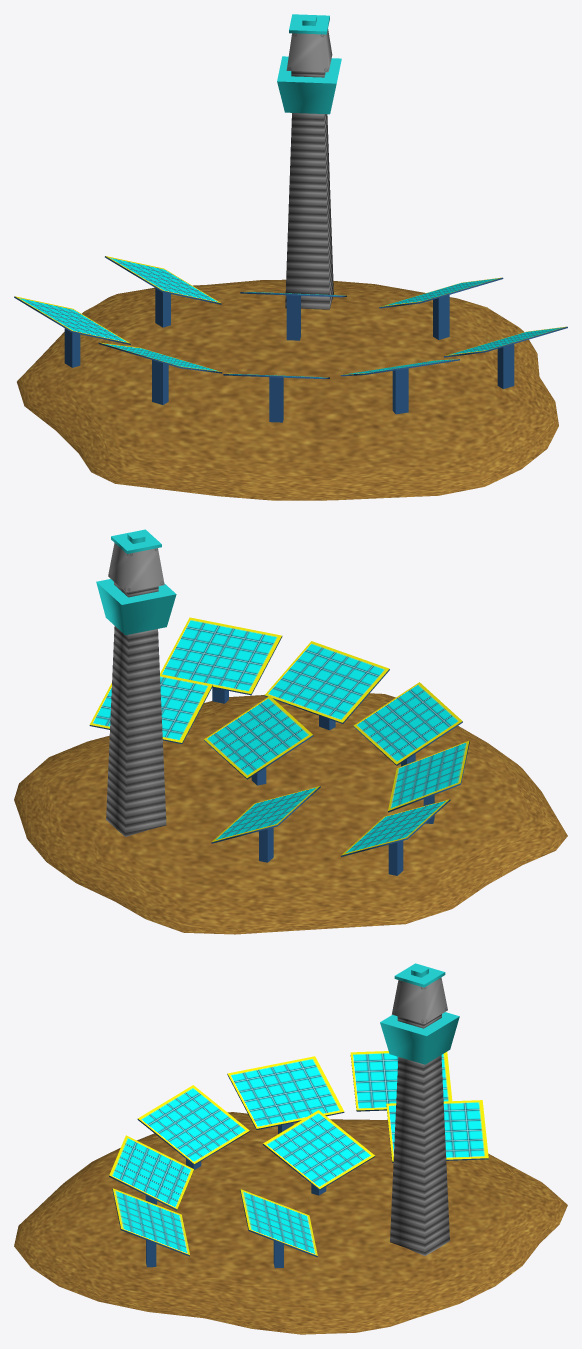
File: SolarFarm.FBX
3 views of the same model, one above another, from view 1: azimuth 30°, elevation 25°; view 2: azimuth 150°, elevation 25°; view 3: azimuth 270°, elevation 25° (orthographic). The views are drawn at different scales.
Visible parts, largest first — view 1: Sphere001, Box002, Box019, Box016, Box017, Box012, Box022, Box020, Box018, Box015; view 2: Sphere001, Box002, Box017, Box020, Box018, Box015, Box022, Box012, Box019, Box016; view 3: Sphere001, Box002, Box022, Box018, Box015, Box020, Box017, Box012, Box019, Box016.
Part boxes in pixels (x1,y1,x2,y2): Sphere001: (17,279,558,500); Box002: (277,14,341,309); Box019: (14,296,130,367); Box016: (105,256,221,327); Box017: (444,326,567,388); Box012: (379,277,503,339); Box022: (98,342,222,404); Box020: (340,359,459,414); Box018: (240,292,346,340); Box015: (223,373,329,422); Sphere001: (14,693,567,934); Box002: (96,529,176,836); Box017: (160,617,282,703); Box020: (264,641,389,730); Box018: (204,696,313,785); Box015: (353,682,462,766); Box022: (388,740,469,823); Box012: (89,674,212,743); Box019: (341,799,450,875); Box016: (211,786,320,862); Sphere001: (14,1112,567,1334); Box002: (380,963,459,1255); Box022: (227,1056,344,1134); Box018: (263,1110,374,1195); Box015: (137,1085,249,1169); Box020: (109,1135,193,1210); Box017: (112,1188,189,1267); Box012: (240,1189,317,1268); Box019: (350,1051,452,1111); Box016: (386,1100,488,1162).
Size of the model in its own units: 110 by 68.61 by 117.
